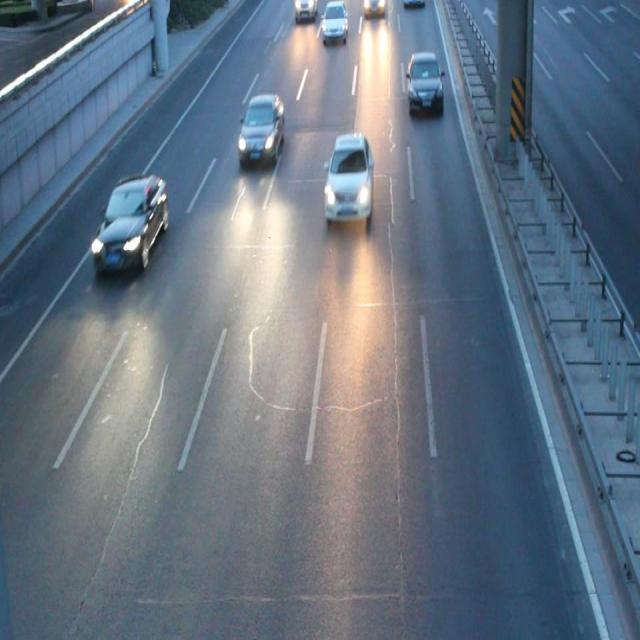car: (90, 172, 168, 272), (324, 133, 374, 224), (238, 94, 284, 167), (405, 50, 443, 114), (320, 1, 348, 40)
truck: (293, 1, 317, 19)
